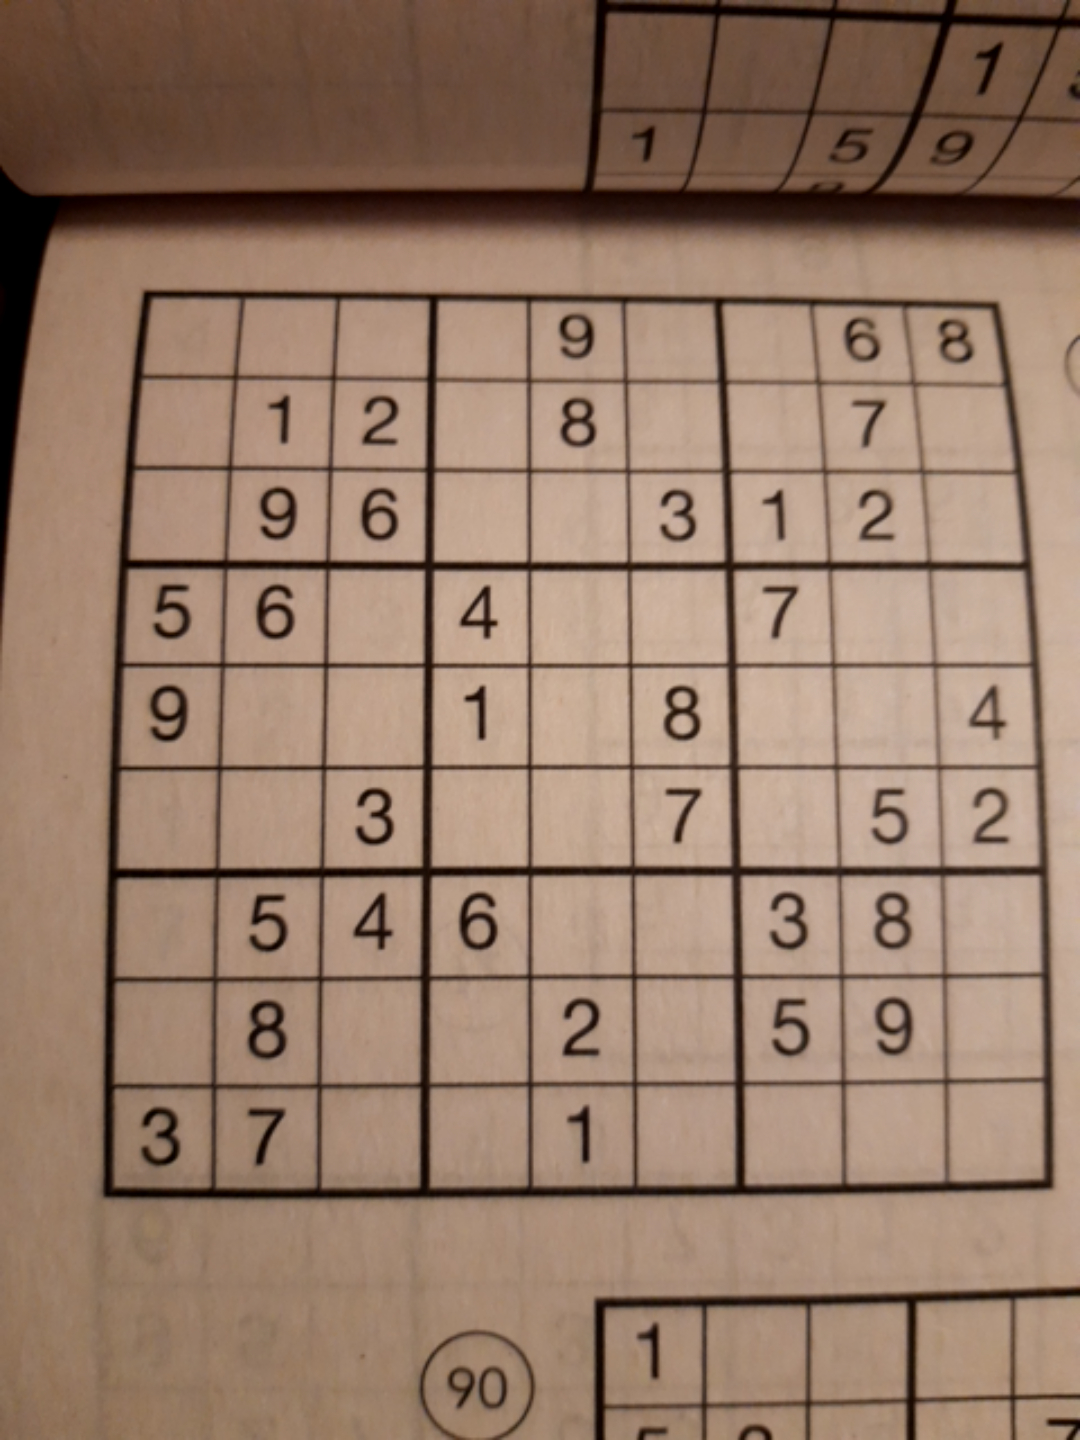sudoku: (95, 285, 1055, 1194)
